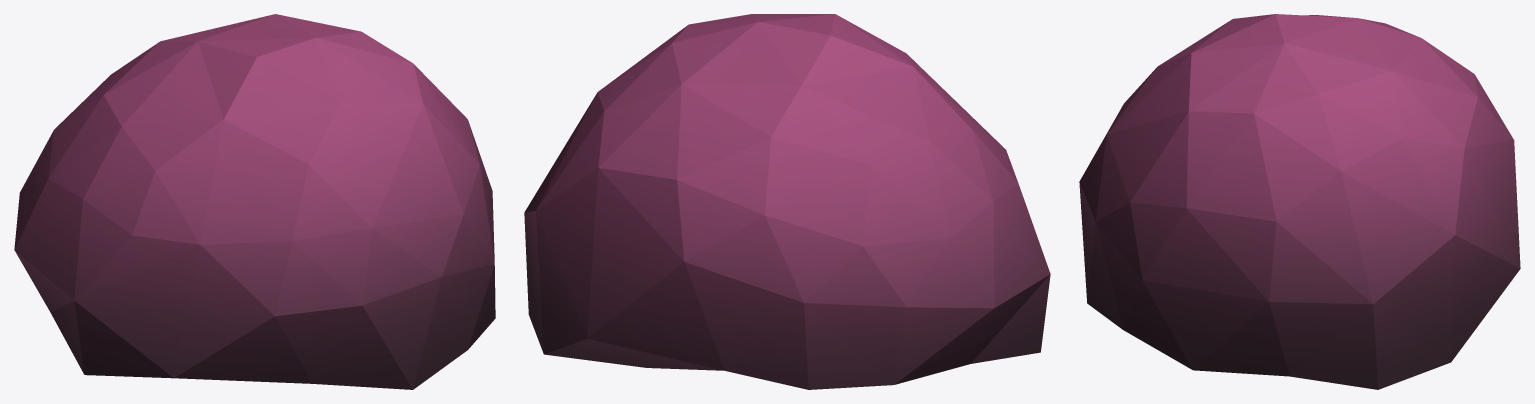
File: Top_01.fbx
The picture shows the model from 3 angles, left to right: view 1: azimuth 30°, elevation 25°; view 2: azimuth 150°, elevation 25°; view 3: azimuth 270°, elevation 25°; orthographic projection. The views are drawn at different scales.
Visible parts, largest first — view 1: pSphere13; view 2: pSphere13; view 3: pSphere13.
Part boxes in pixels (x1,y1,x2,y2): pSphere13: (14,14,495,389); pSphere13: (524,14,1050,389); pSphere13: (1079,14,1520,389).
Size of the model in its own units: 1.55 by 0.9564 by 1.42.
